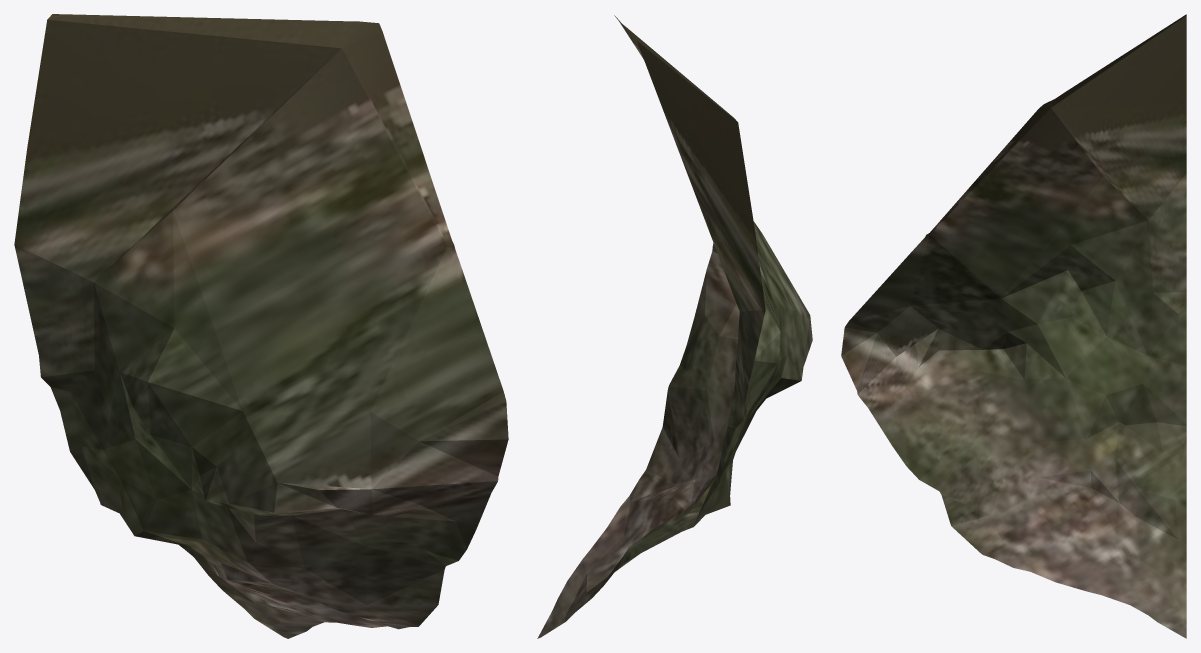
3 renders of one model, left to right at view 1: azimuth 30°, elevation 25°; view 2: azimuth 150°, elevation 25°; view 3: azimuth 270°, elevation 25°, orthographic. The views are drawn at different scales.
Size of the model in its own units: 0.8816 by 2.1 by 1.23.
Materials: 1 (1 with a texture image).
